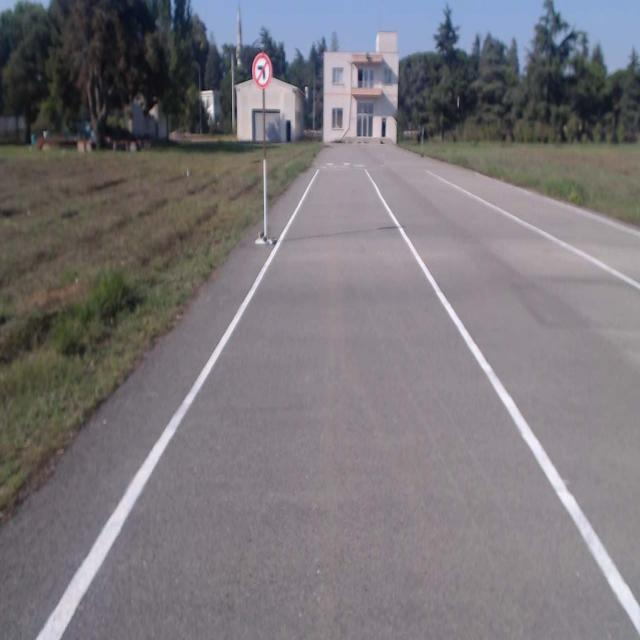soladonulmez: (251, 53, 273, 87)
